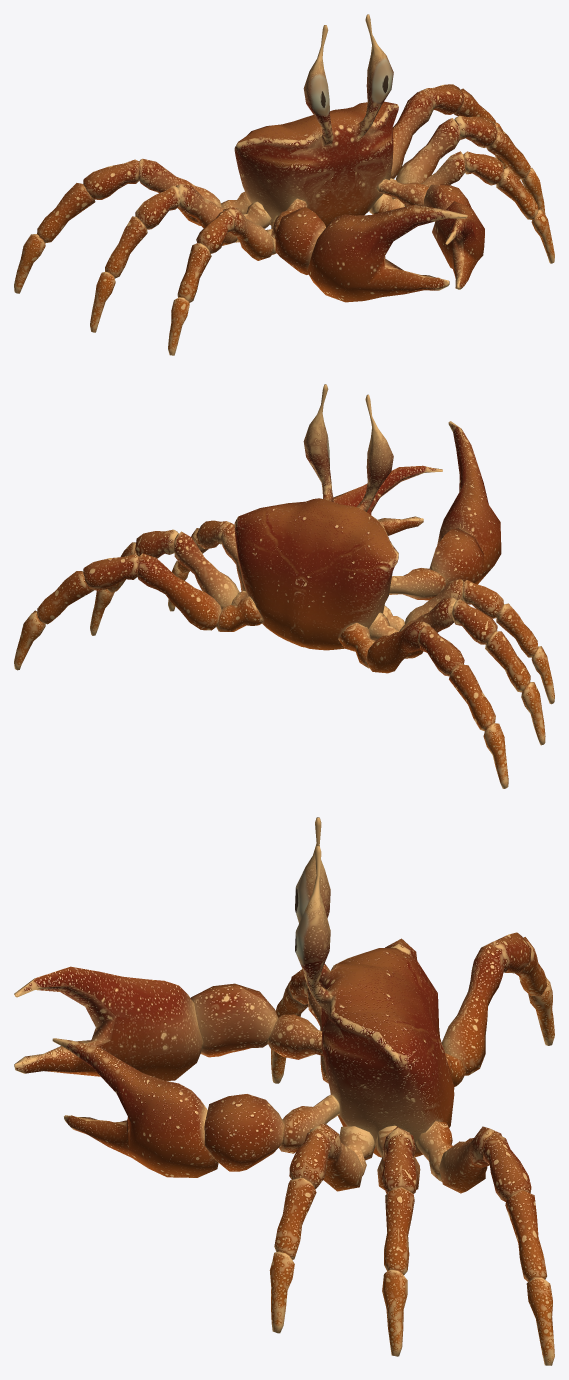
File: Cangrejo_PBR.glb
3 views of the same model, one above another, from view 1: azimuth 30°, elevation 25°; view 2: azimuth 150°, elevation 25°; view 3: azimuth 270°, elevation 25° (orthographic). The views are drawn at different scales.
Parts seen in each view (by area): view 1: Cangrejo_MAIN_Geo; view 2: Cangrejo_MAIN_Geo; view 3: Cangrejo_MAIN_Geo.
Boxes of the visible parts, box(x1,y1,x2,y2) form: Cangrejo_MAIN_Geo: box(14, 14, 554, 355); Cangrejo_MAIN_Geo: box(14, 384, 554, 788); Cangrejo_MAIN_Geo: box(14, 817, 554, 1365).
Bounding box in the file's own units: 16.52 × 8.92 × 11.61.
1 material, 1 textured.
